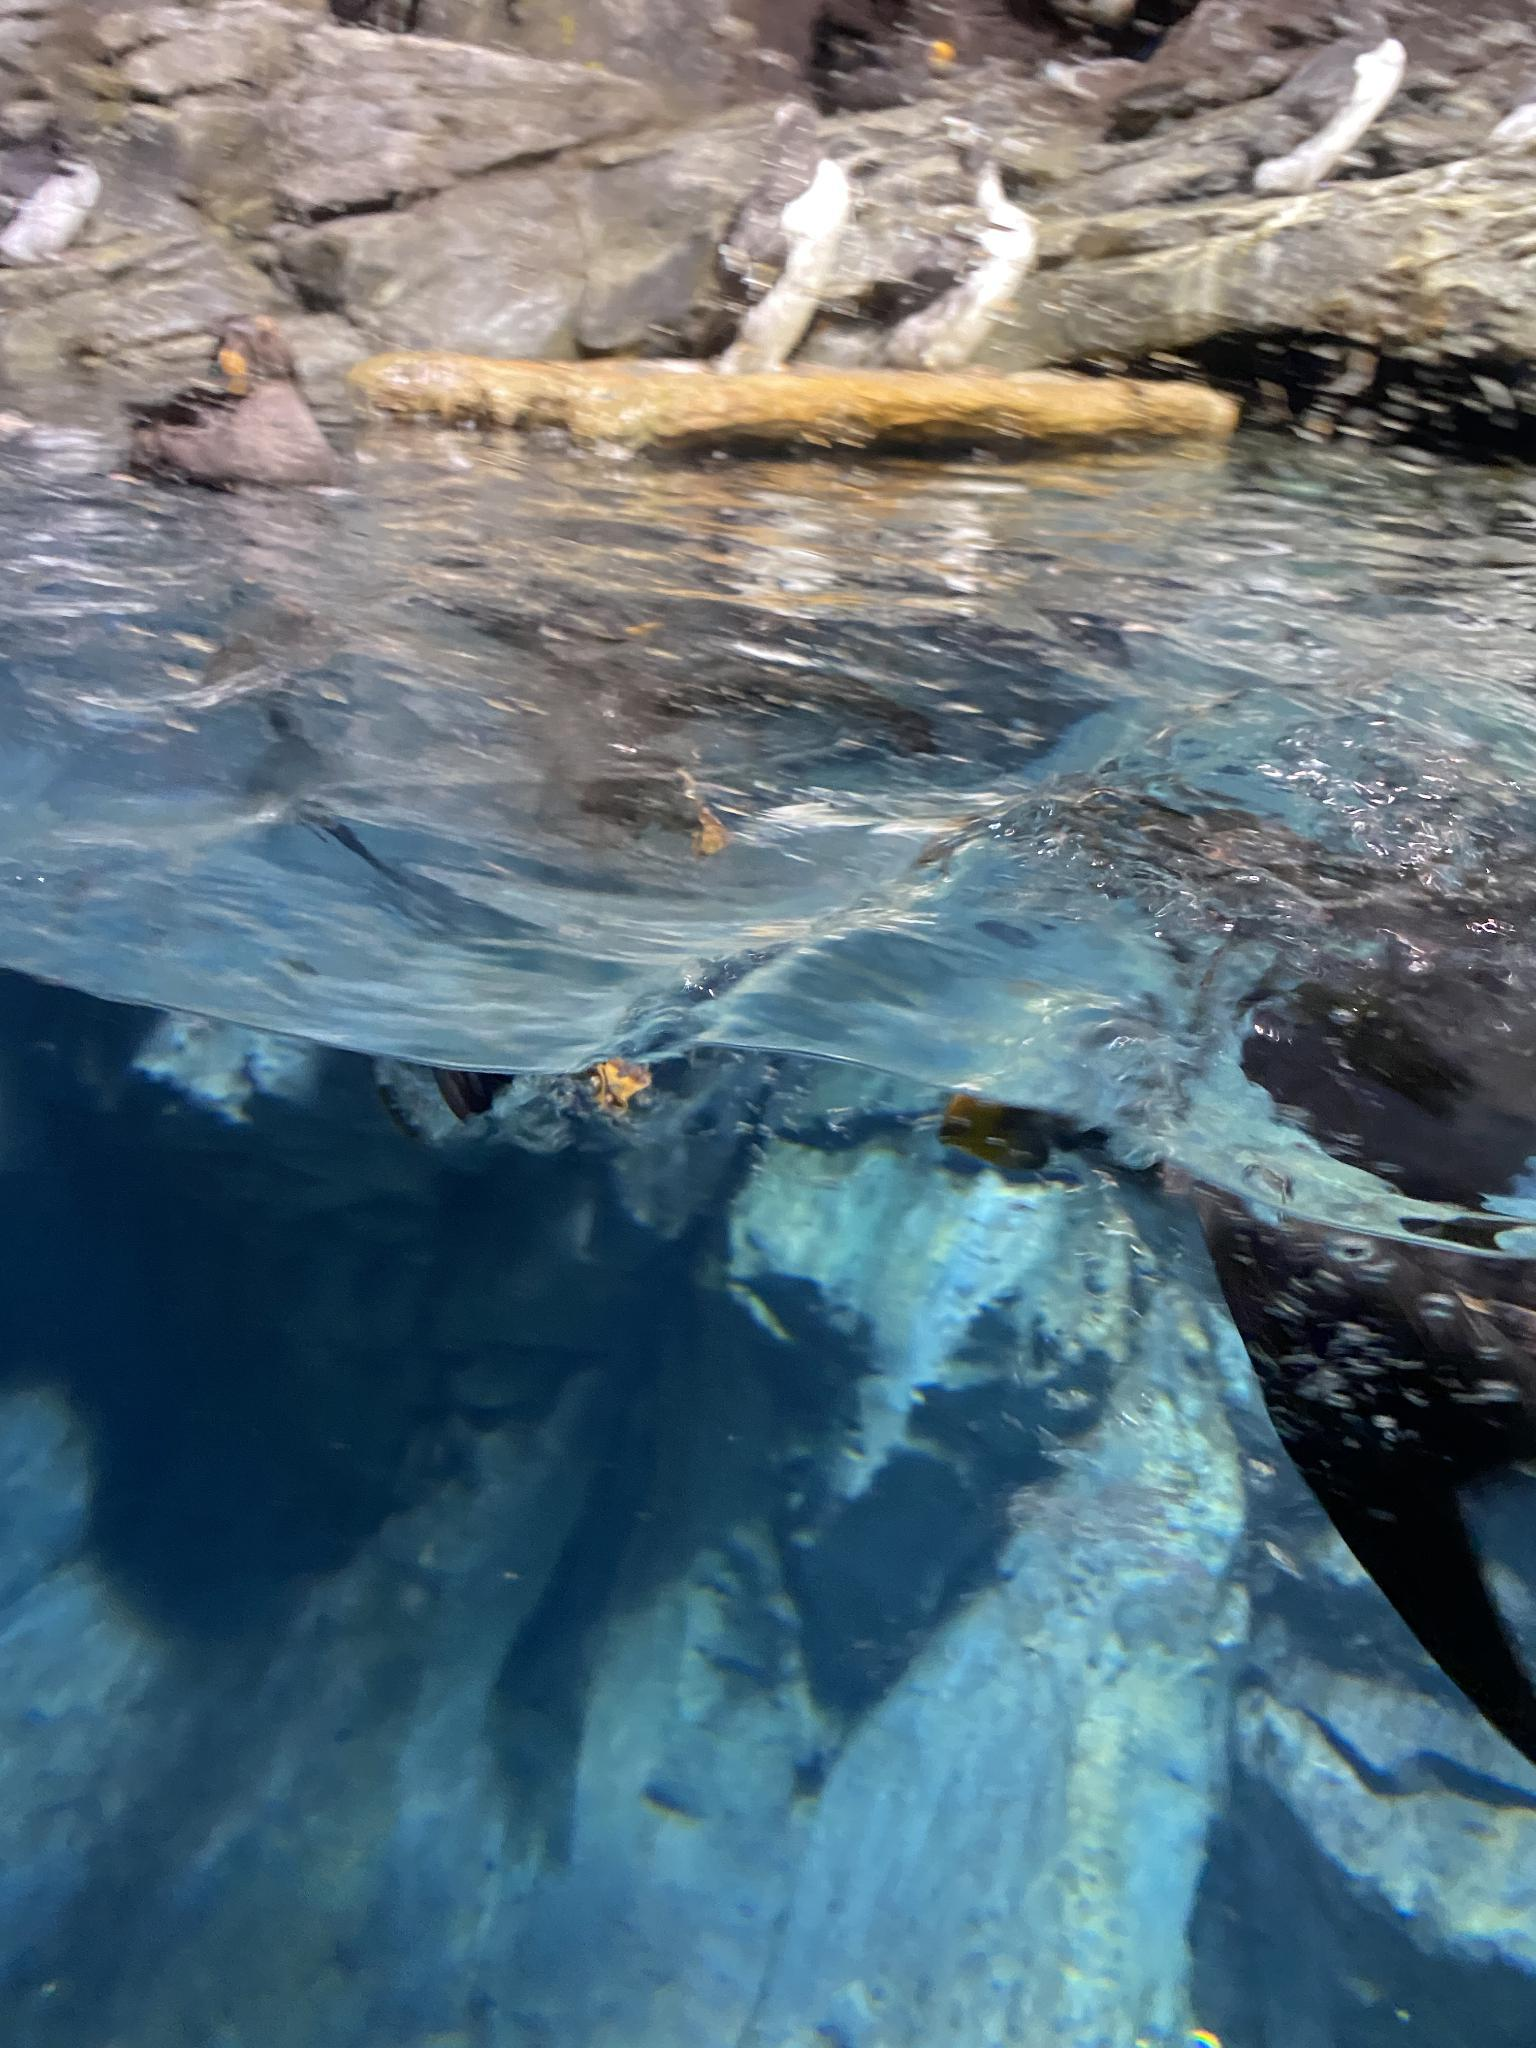puffin: (137, 311, 344, 498)
